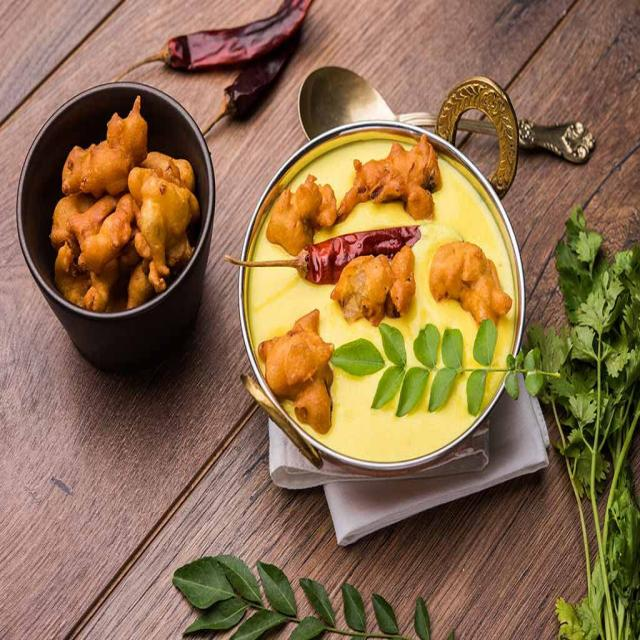Kadhi Pakora: (243, 128, 516, 469)
